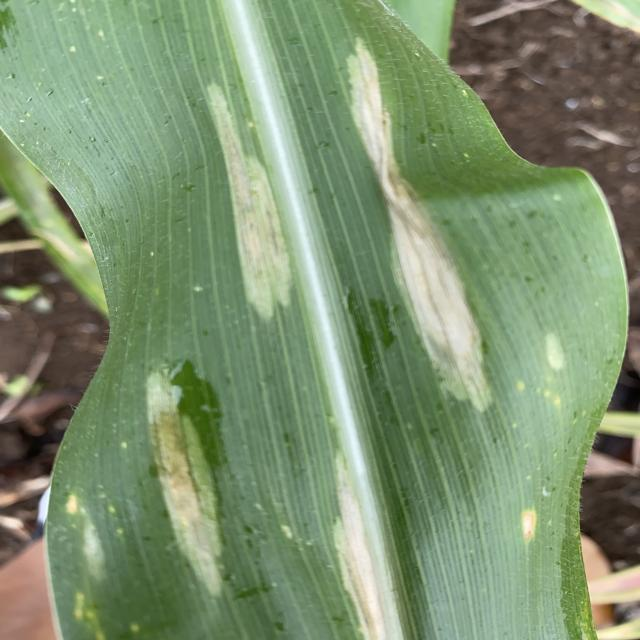Corn_Leaf_Blight: (44, 0, 621, 640)
